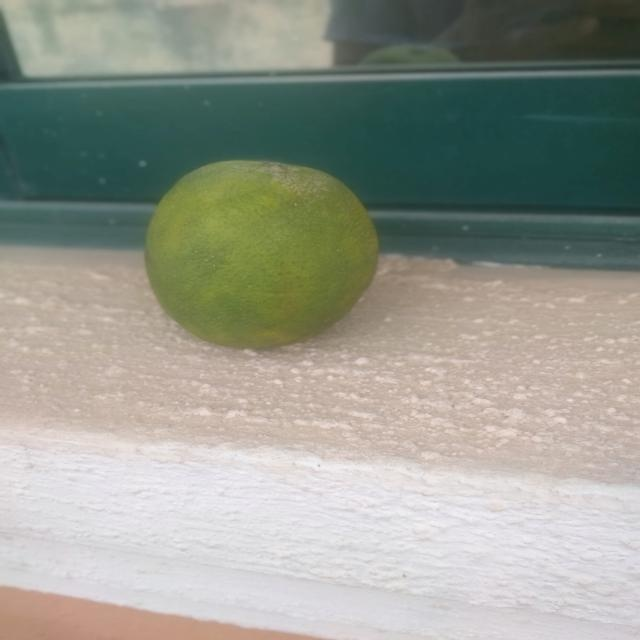agrume: (136, 147, 387, 367)
